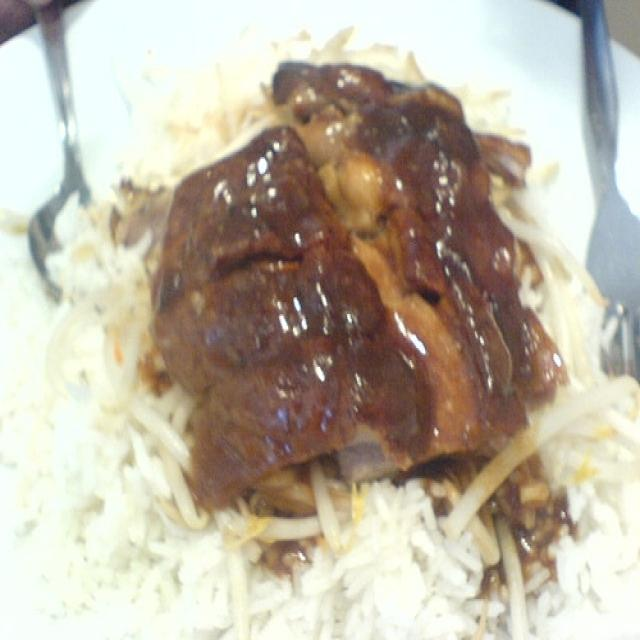米饭主食: (9, 31, 635, 636)
